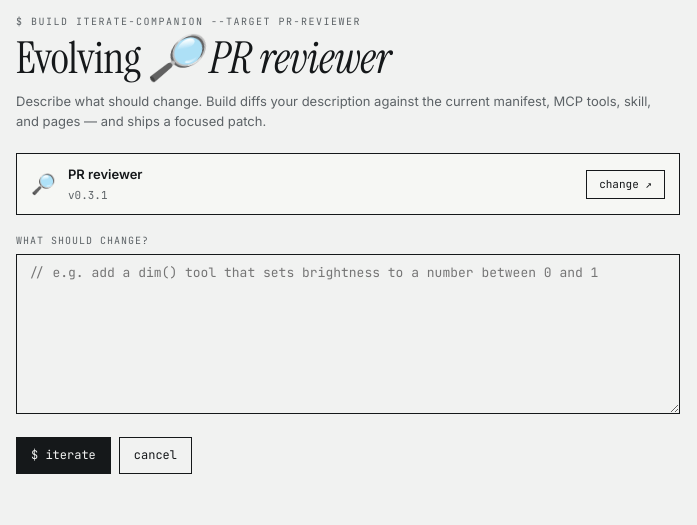
Test: BuildIterate › blocks submit when description is empty
Click the button "$ iterate". click: (63, 455)
box: [16,437,111,474]
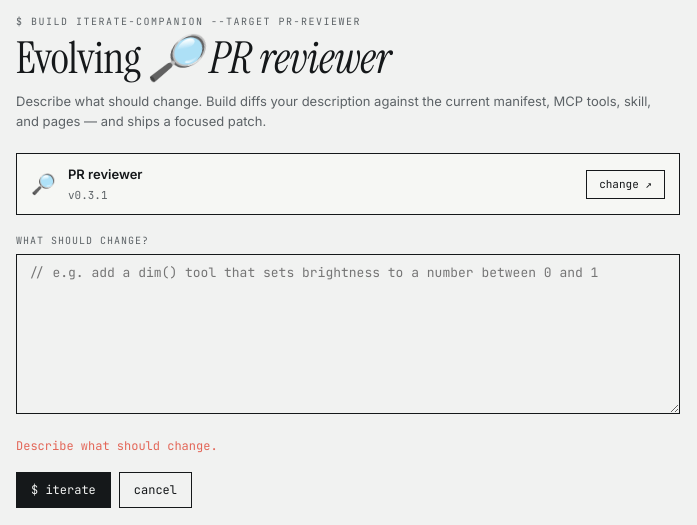
Expected: the message shows "Describe what should change", [16,438,218,454]
